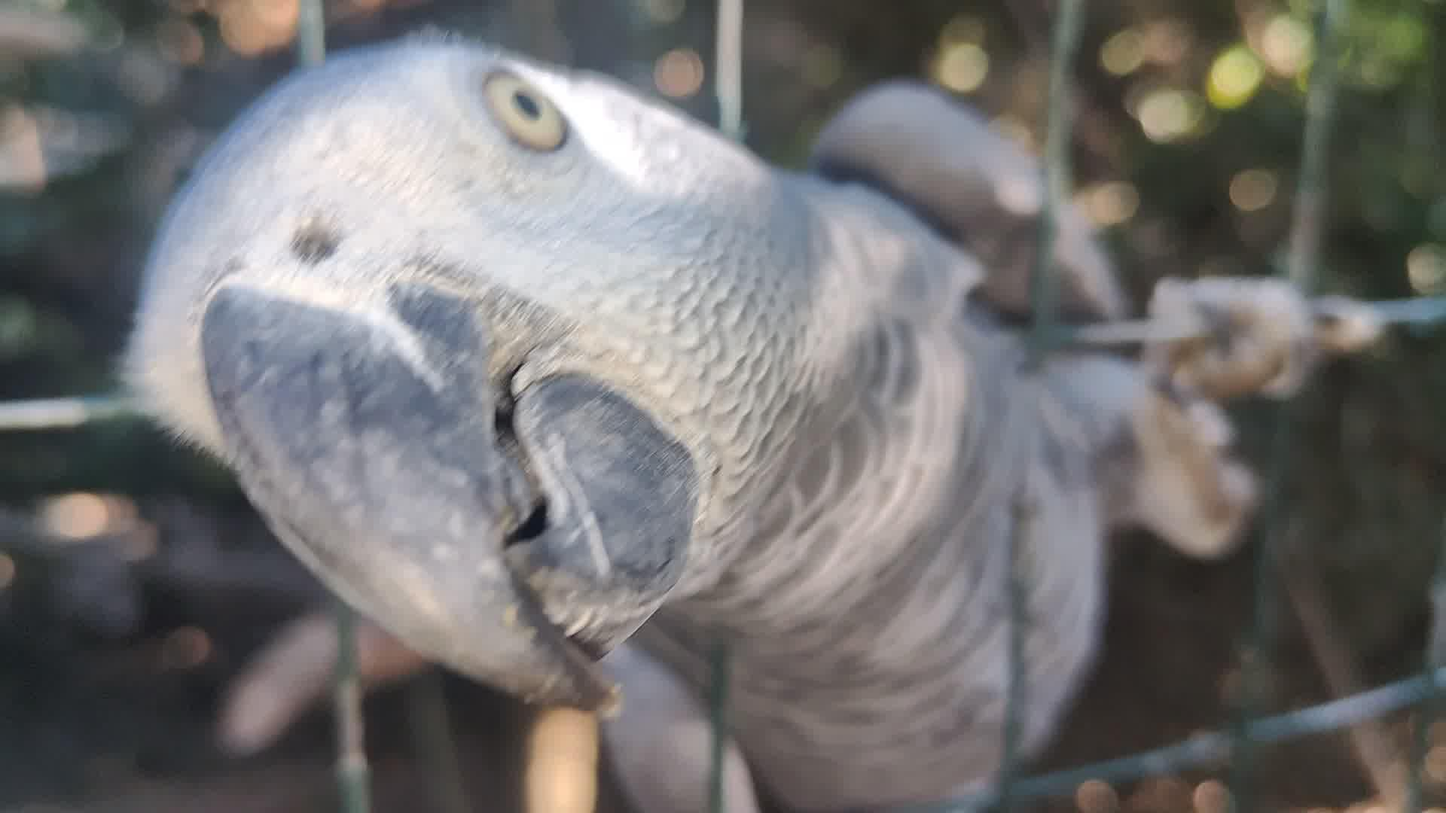apple: (116, 24, 1392, 813)
